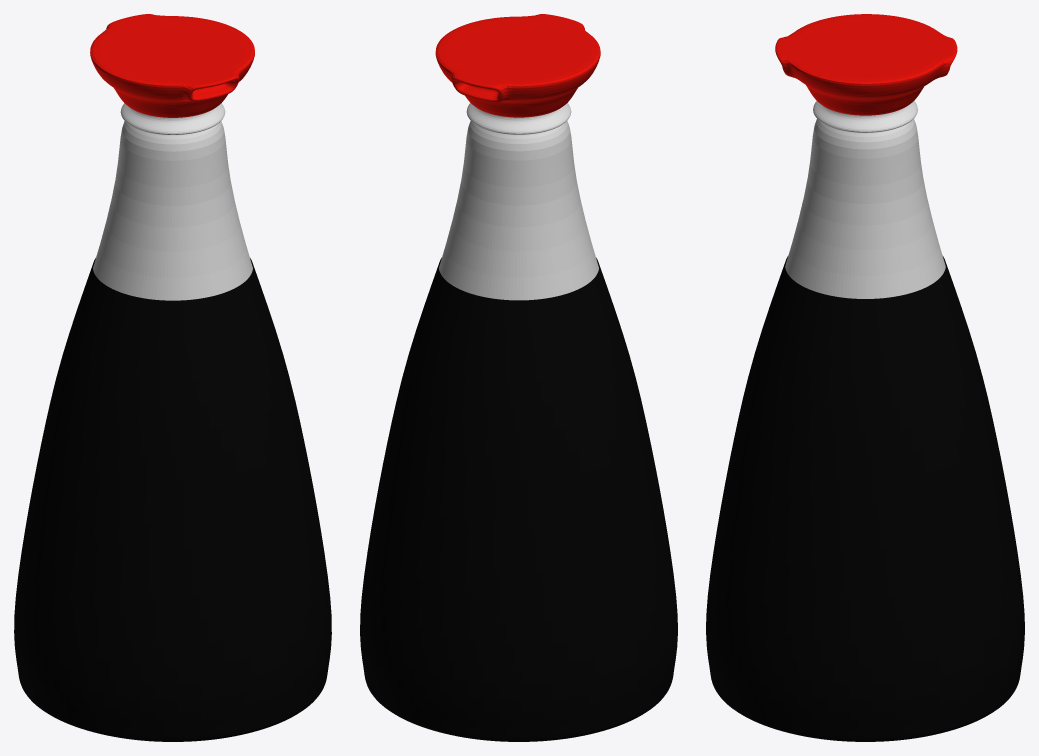
File: soysauce6.fbx_Collection.fbx
3 views of the same model, side by side, from view 1: azimuth 30°, elevation 25°; view 2: azimuth 150°, elevation 25°; view 3: azimuth 270°, elevation 25° (orthographic).
Parts seen in each view (by area): view 1: Cylinder; view 2: Cylinder; view 3: Cylinder.
Boxes of the visible parts, x1,y1,x2,y2 form: Cylinder: (14,14,331,741); Cylinder: (360,14,677,741); Cylinder: (706,14,1024,741).
Size of the model in its own units: 98.27 by 217 by 98.27.
